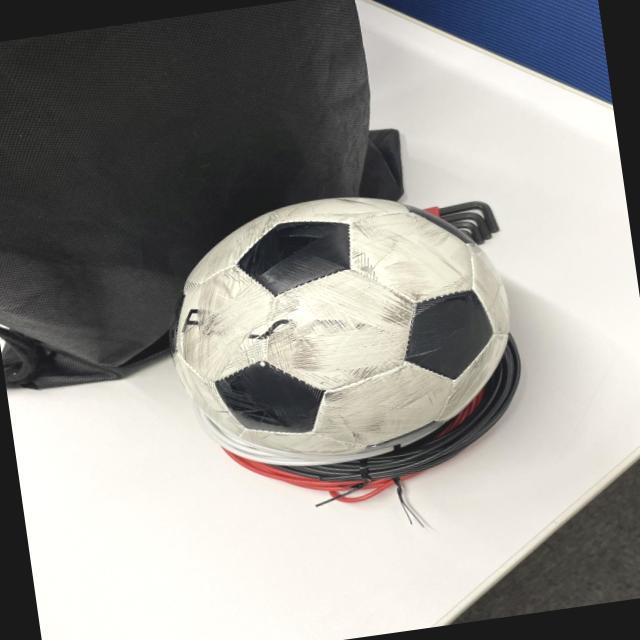Soccer Ball: (157, 175, 527, 482)
